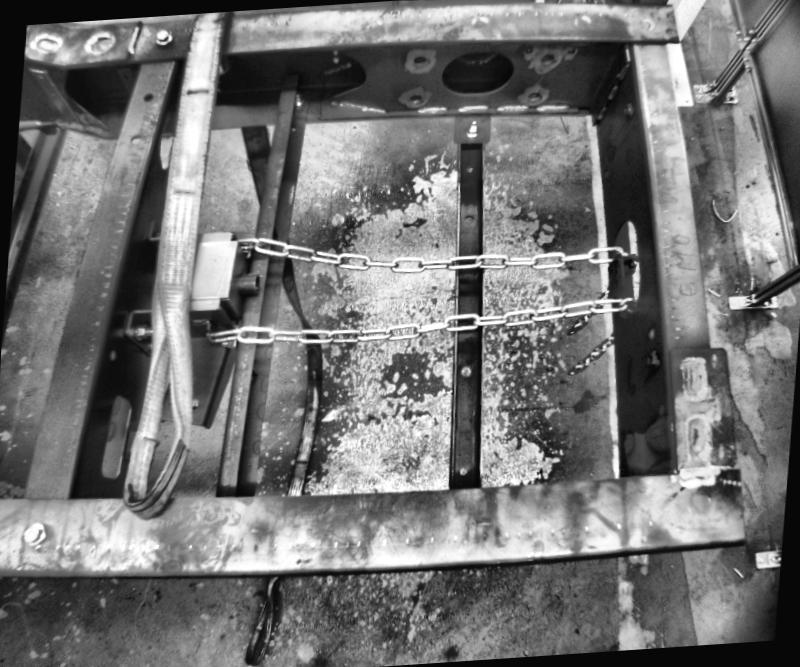bolt: (24, 522, 47, 546), (152, 28, 174, 52), (134, 325, 159, 343), (640, 348, 660, 370), (286, 90, 306, 108), (464, 119, 478, 141), (623, 102, 632, 117)
bracket: (600, 250, 626, 301)
hole: (436, 46, 516, 98), (99, 388, 132, 489), (408, 52, 429, 70), (408, 94, 424, 108), (538, 52, 554, 66), (458, 366, 470, 380), (526, 91, 540, 103), (462, 212, 472, 226), (106, 349, 116, 363), (643, 328, 654, 340), (458, 466, 468, 478), (142, 91, 152, 102), (128, 134, 138, 144), (464, 163, 472, 172)
welding: (590, 108, 606, 124), (614, 64, 627, 82), (602, 92, 616, 105)
